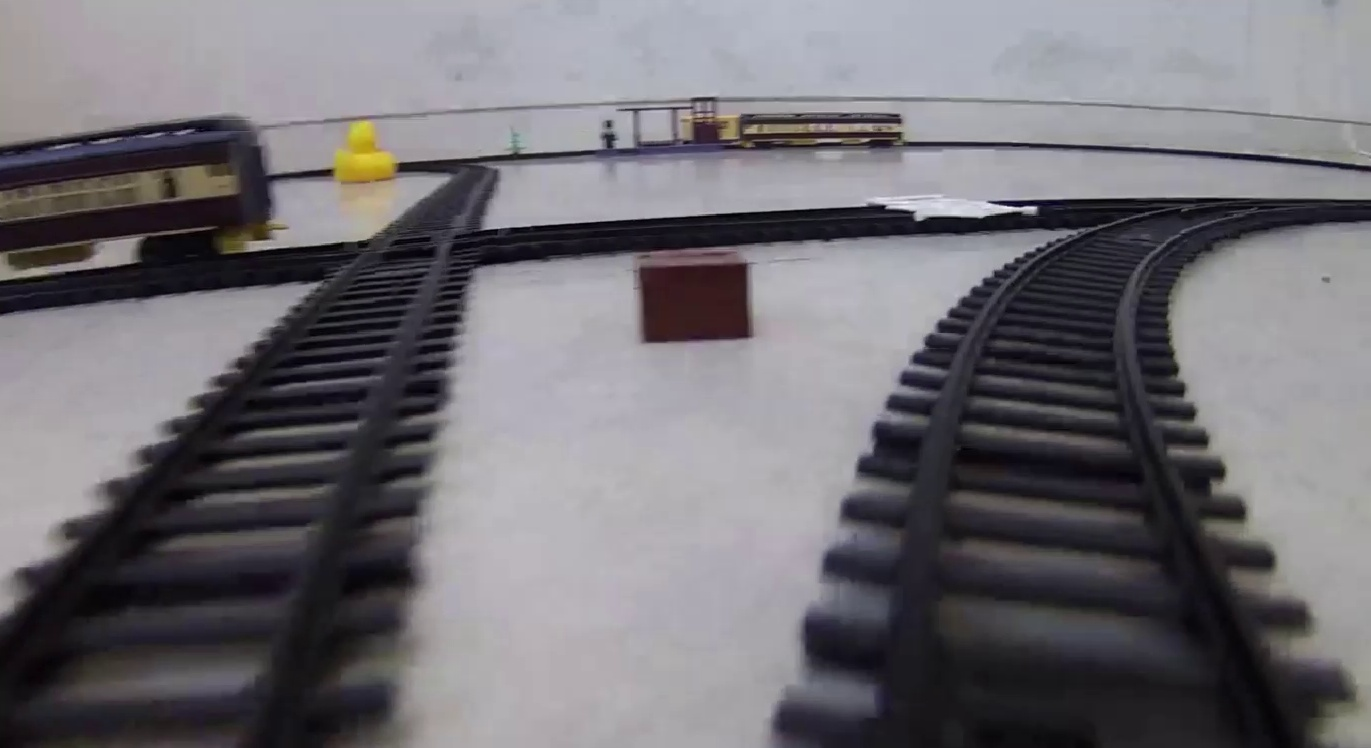box: (632, 252, 753, 340)
web: (865, 190, 1040, 219)
